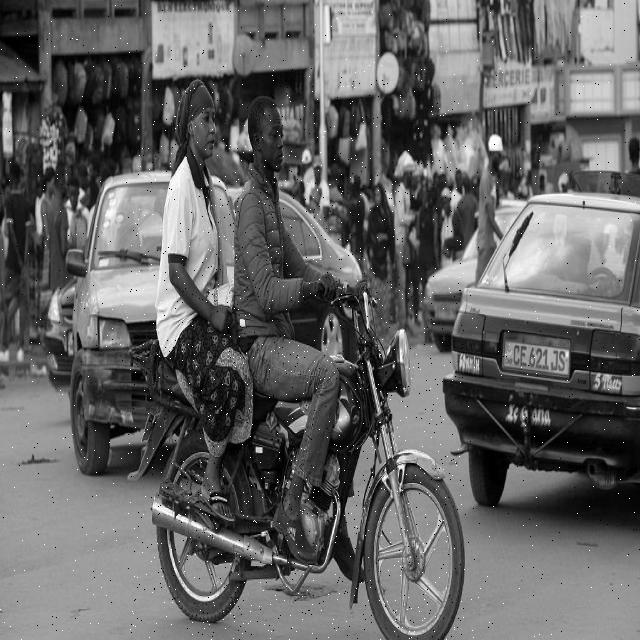Motorbike: (128, 80, 464, 640)
